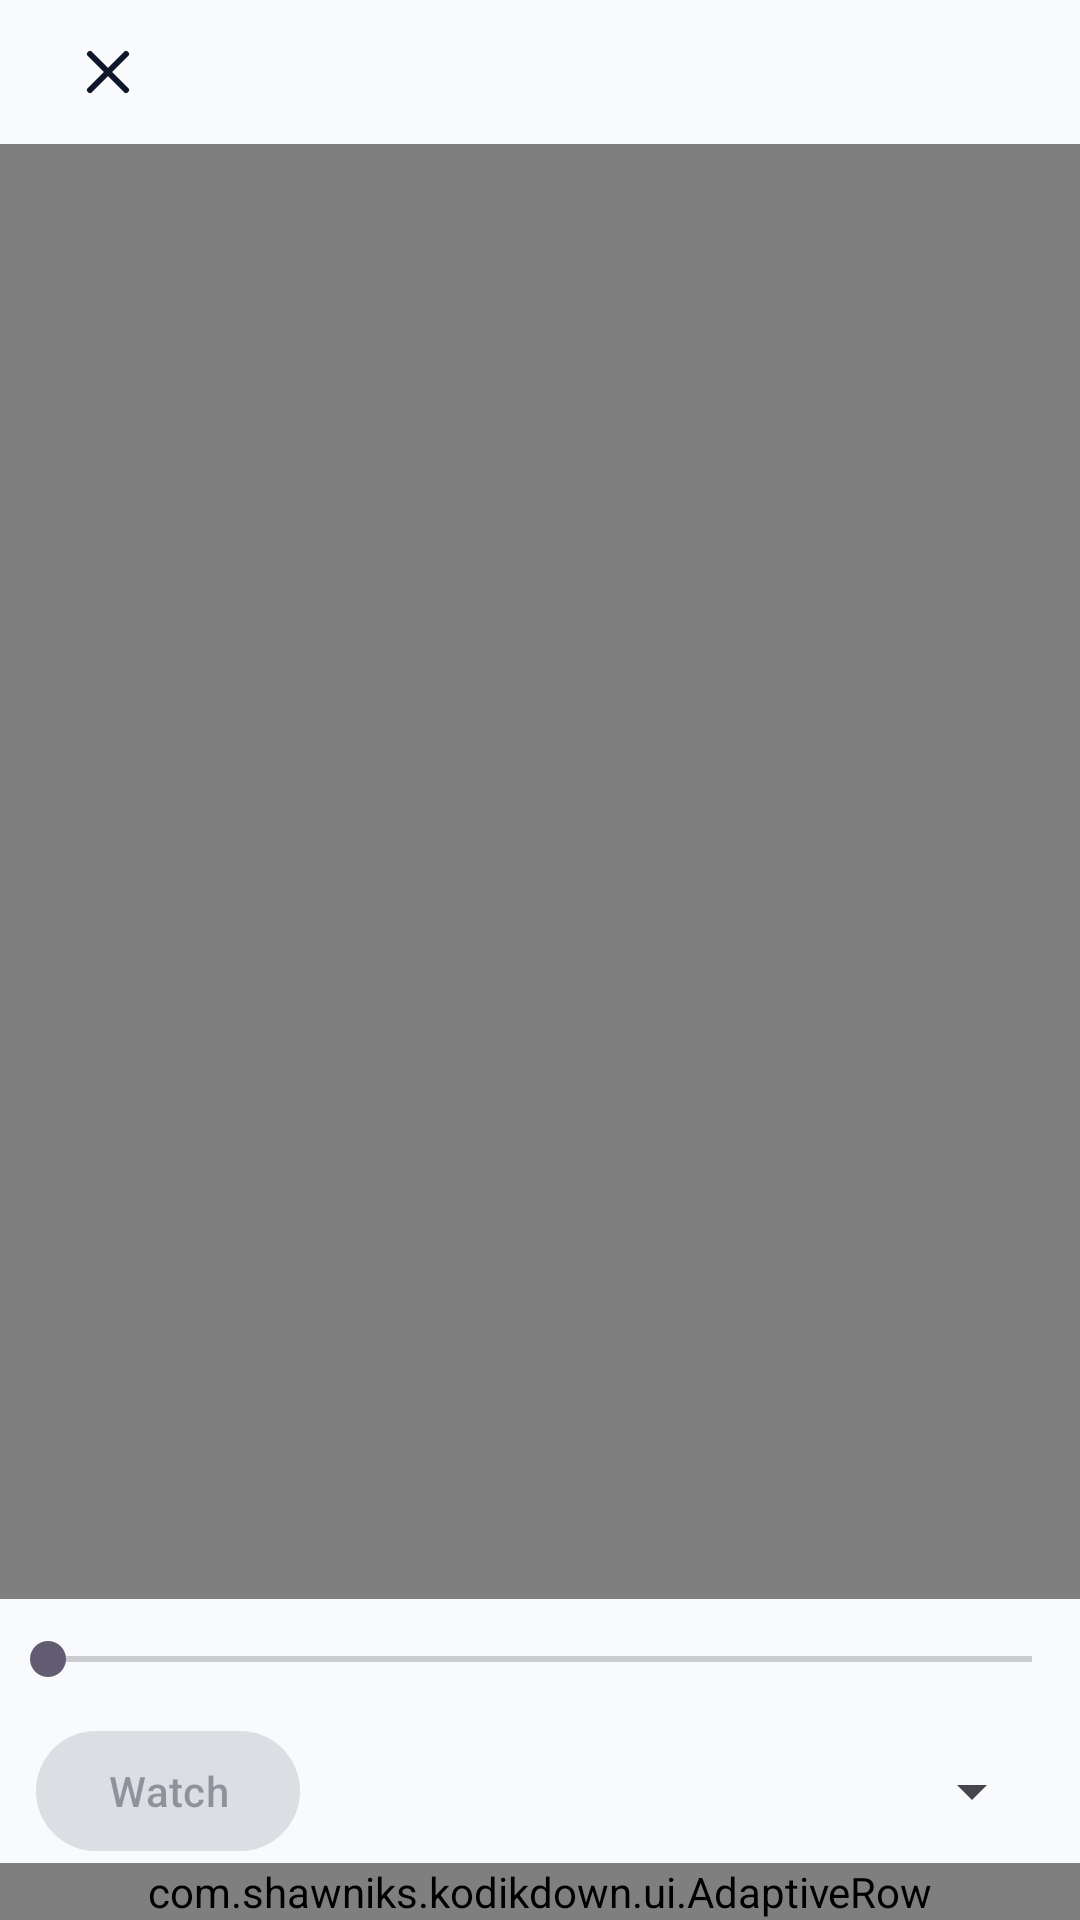

Locate icon controls on the screen. Image size 1080*1920, boxes as Rect(x1, y1, x2, y2).
Close: Rect(87, 51, 129, 93)
